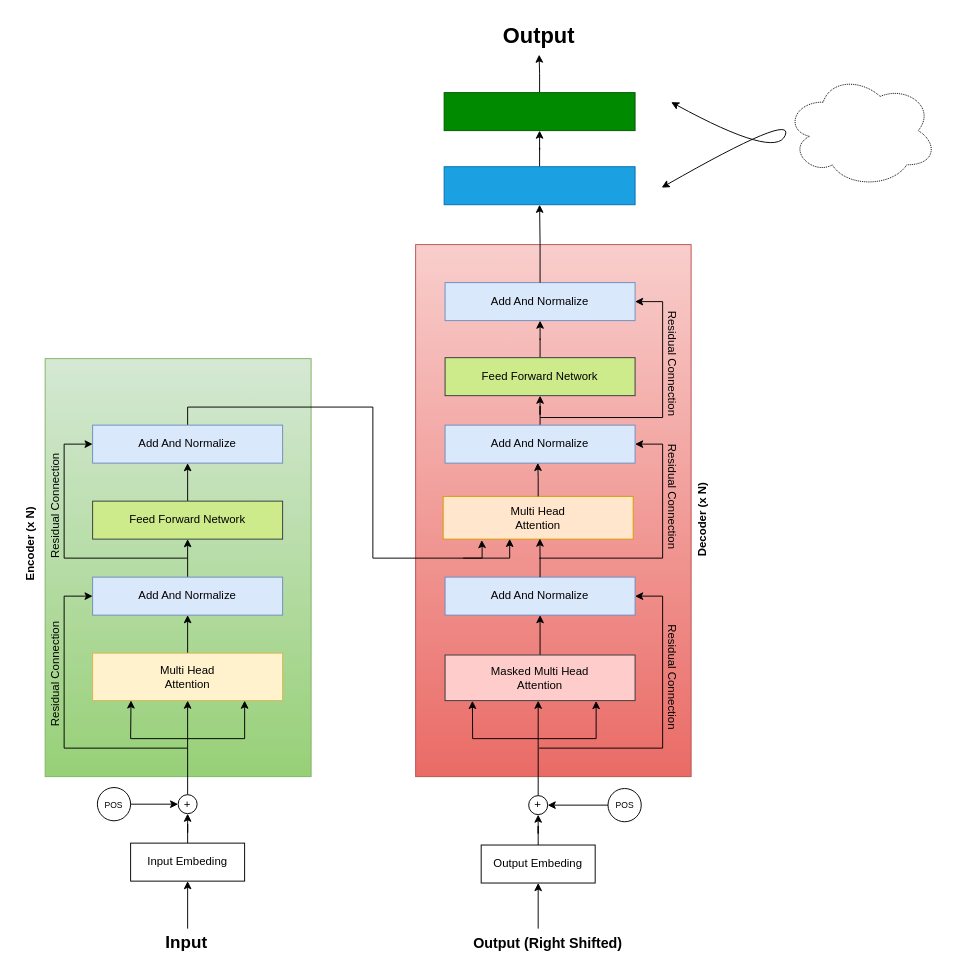
Some shapes in this 954 by 973 pixel diagram are drawn without their labels. Here are the shapes that lost their labels. From the top down, the centre of each, then its label:
At pixel 539 111: "Softmax".
At pixel 860 130: "Linearize and Convert to Probablities of Token".
At pixel 539 185: "Linear".
